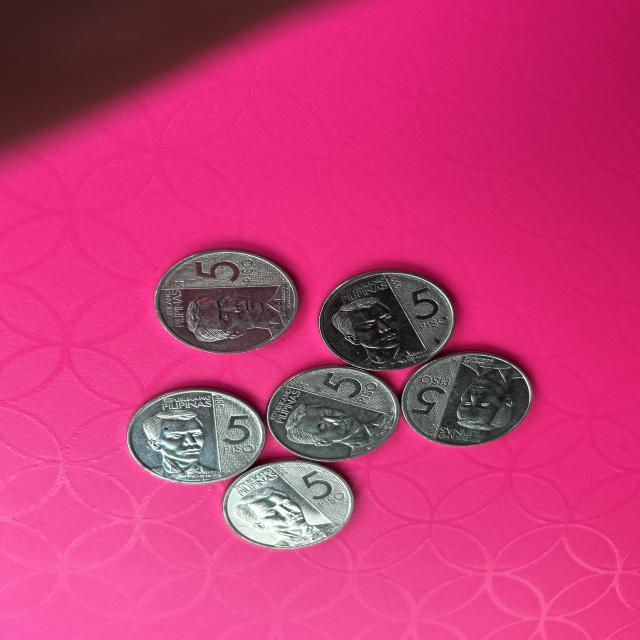5_New_Front: (312, 365, 395, 416), (186, 252, 269, 290), (397, 287, 444, 342), (299, 466, 352, 513), (413, 371, 458, 426), (216, 413, 256, 465)
